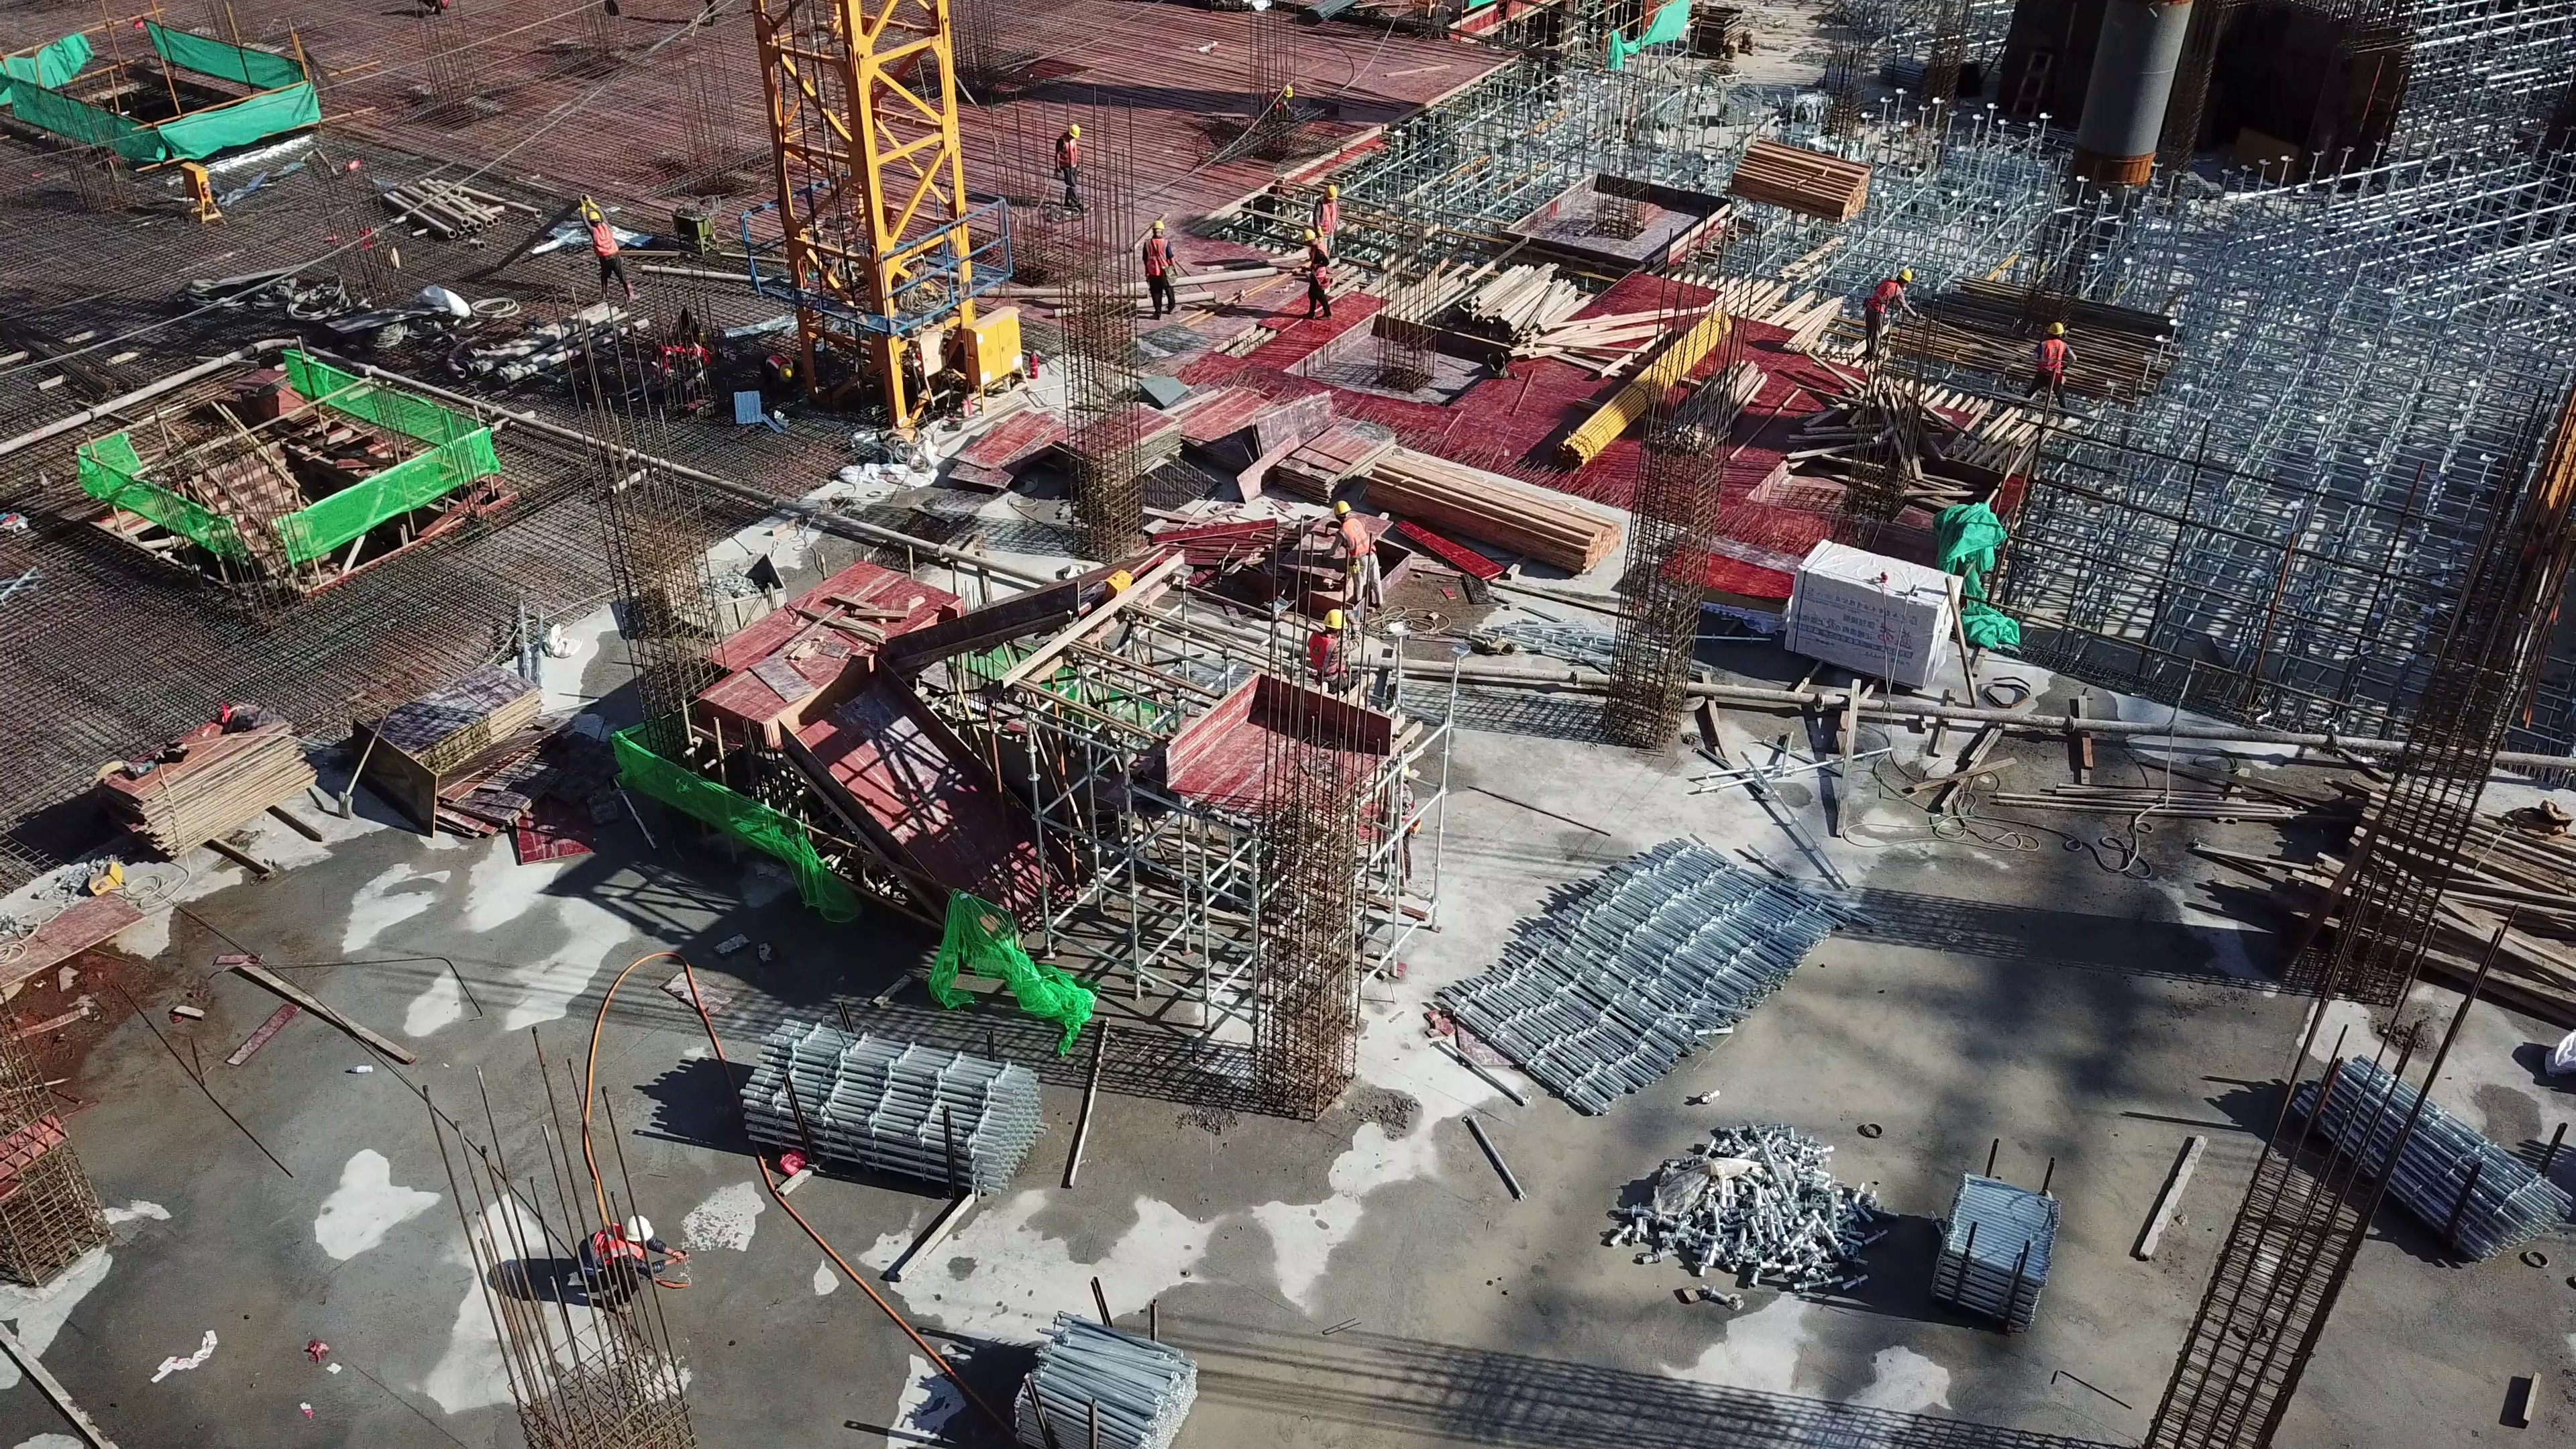person: (559, 1208, 694, 1311)
scaffold: (2106, 208, 2450, 710), (1438, 850, 1829, 1118), (720, 1007, 1053, 1199), (2290, 1051, 2576, 1265), (998, 1307, 1201, 1449), (1933, 1171, 2074, 1334)
wood: (2275, 783, 2576, 994), (102, 712, 312, 870), (1364, 447, 1619, 576), (362, 678, 537, 847), (1441, 260, 1621, 363)
